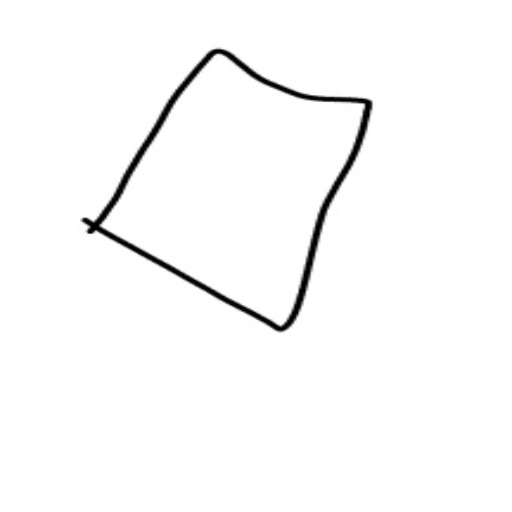square: (79, 33, 395, 344)
